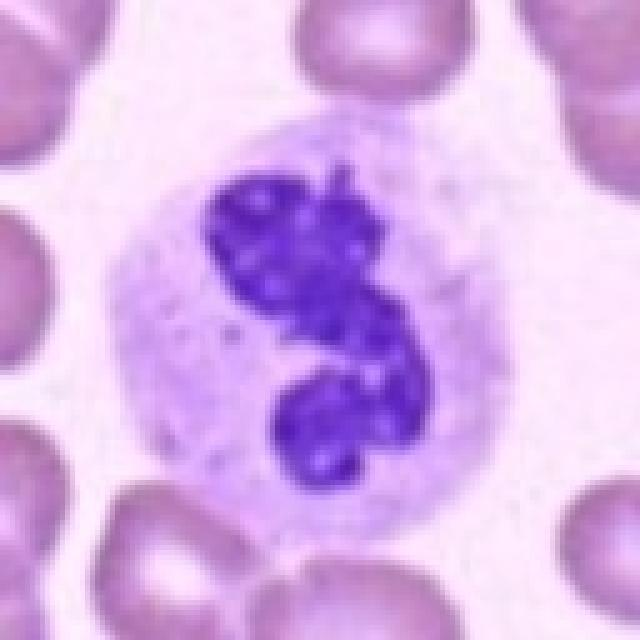neutro: (68, 130, 580, 513)
